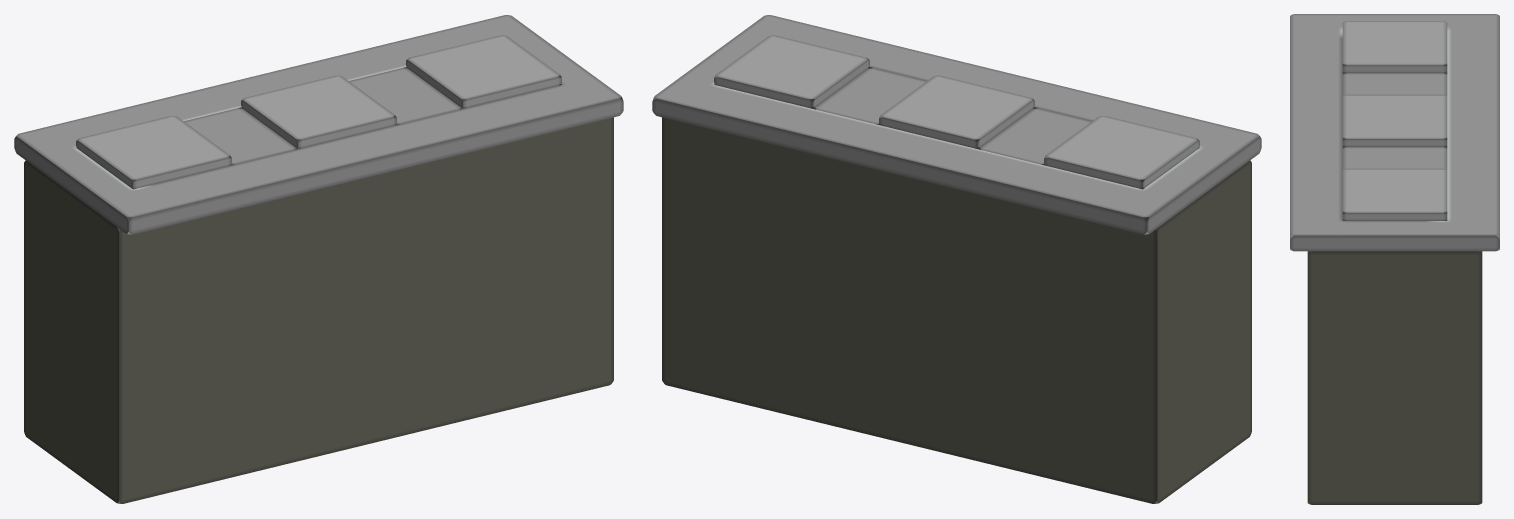
File: Desk.fbx
3 views of the same model, side by side, from view 1: azimuth 30°, elevation 25°; view 2: azimuth 150°, elevation 25°; view 3: azimuth 270°, elevation 25° (orthographic). The views are drawn at different scales.
Parts seen in each view (by area): view 1: cube; view 2: cube; view 3: cube.
Boxes of the visible parts, bbox=[...] form: cube: bbox=[14, 15, 623, 503]; cube: bbox=[652, 15, 1261, 503]; cube: bbox=[1290, 14, 1499, 504].
Bounding box in the file's own units: 188 × 109 × 75.
Materials: 1 (1 with a texture image).
